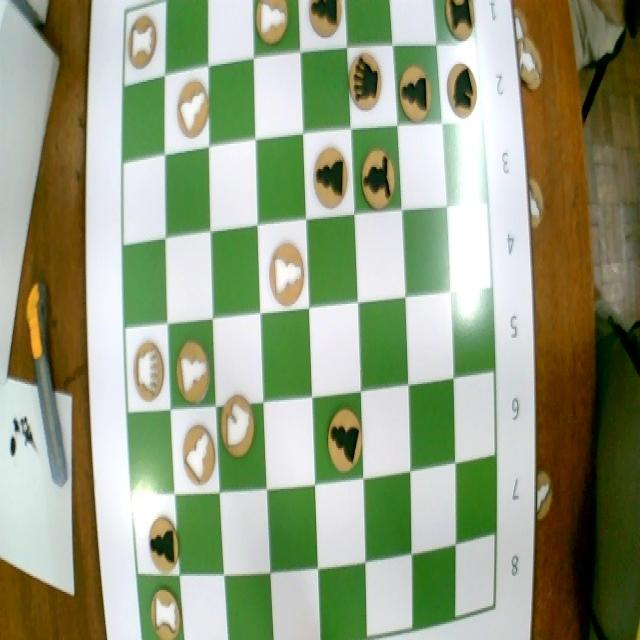chess-pieces: (305, 135, 352, 213), (318, 399, 362, 475), (264, 232, 308, 307), (170, 332, 214, 406), (127, 330, 167, 409), (177, 420, 219, 492), (356, 143, 398, 209), (218, 391, 256, 462), (345, 49, 387, 112), (173, 72, 210, 140), (124, 9, 161, 74), (396, 61, 433, 124), (442, 56, 479, 117), (147, 585, 186, 638), (146, 514, 182, 570), (251, 0, 294, 46), (306, 0, 344, 45), (440, 0, 476, 41)
